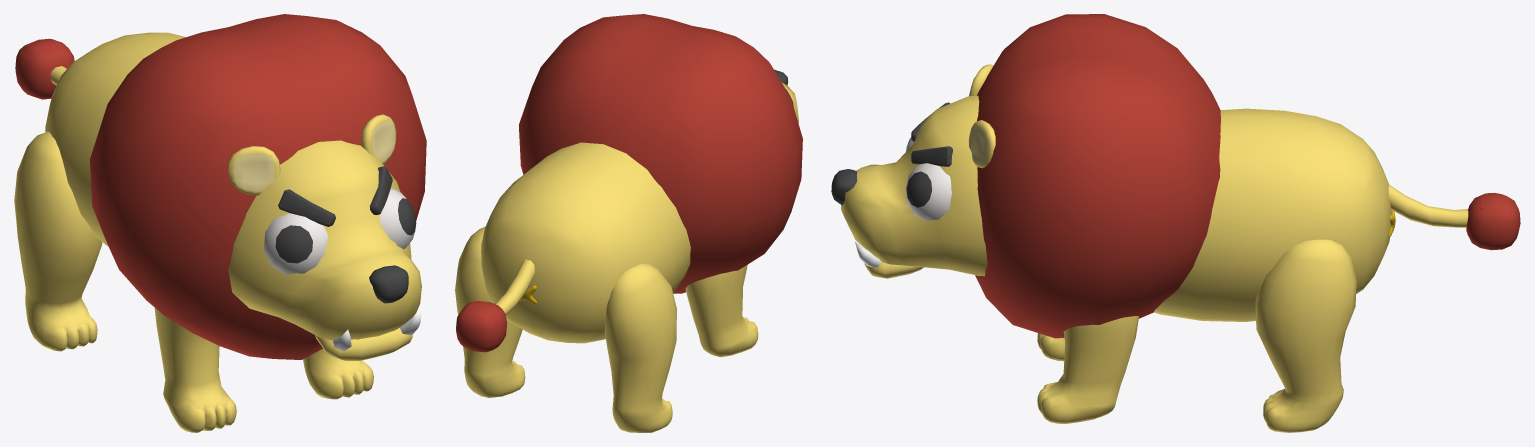
File: Male_Lion.fbx
3 renders of one model, left to right at view 1: azimuth 30°, elevation 25°; view 2: azimuth 150°, elevation 25°; view 3: azimuth 270°, elevation 25°, orthographic. The views are drawn at different scales.
Parts seen in each view (by area): view 1: Male_Lion; view 2: Male_Lion; view 3: Male_Lion.
Part boxes in pixels (bbox=[...]): Male_Lion: bbox=[14, 14, 426, 432]; Male_Lion: bbox=[455, 14, 802, 432]; Male_Lion: bbox=[831, 14, 1520, 432].
Bounding box in the file's own units: 168 × 194 × 357.
